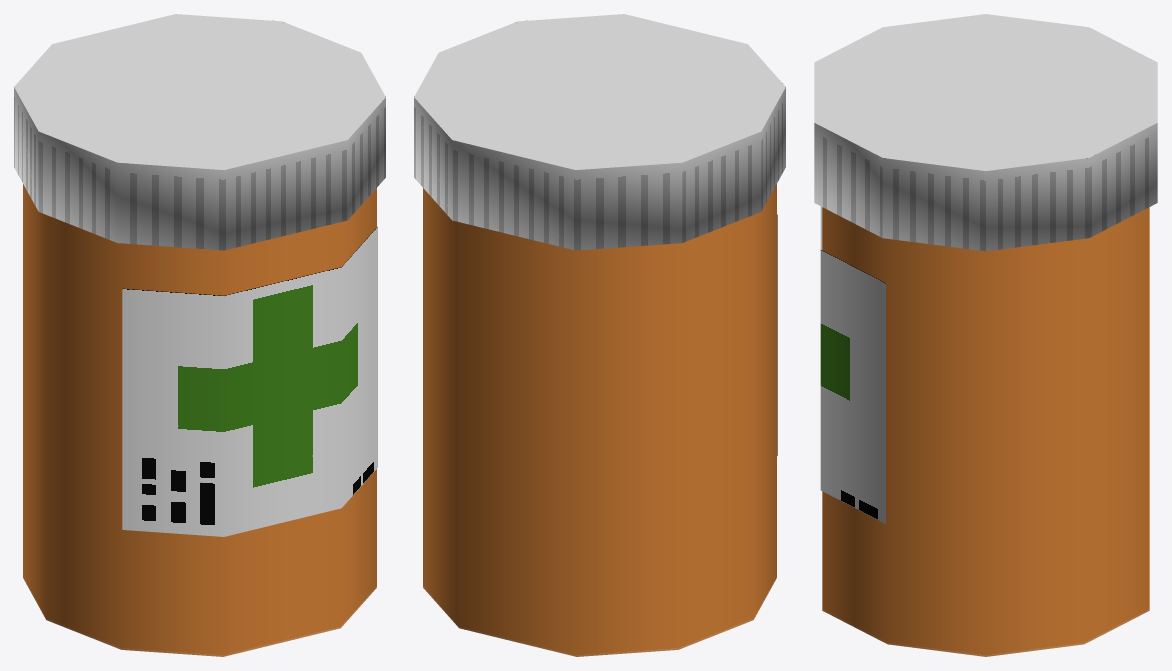
The model's file is painkillers.glb.
3 renders of one model, left to right at view 1: azimuth 30°, elevation 25°; view 2: azimuth 150°, elevation 25°; view 3: azimuth 270°, elevation 25°, orthographic.
Visible parts, largest first — view 1: painkillers; view 2: painkillers; view 3: painkillers.
Part boxes in pixels (<box>): painkillers: <box>14,14,385,656</box>; painkillers: <box>414,14,785,656</box>; painkillers: <box>814,14,1157,656</box>.
Bounding box in the file's own units: 0.042 × 0.061 × 0.0388.
Materials: 1 (1 with a texture image).
